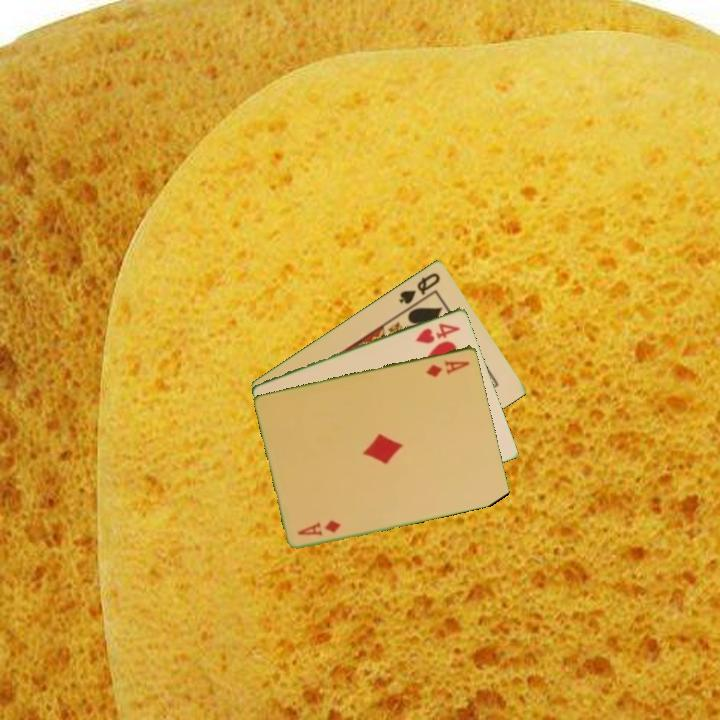4h: (412, 319, 463, 346)
Ad: (423, 356, 473, 379), (294, 516, 344, 538)
Qs: (395, 269, 443, 307)
